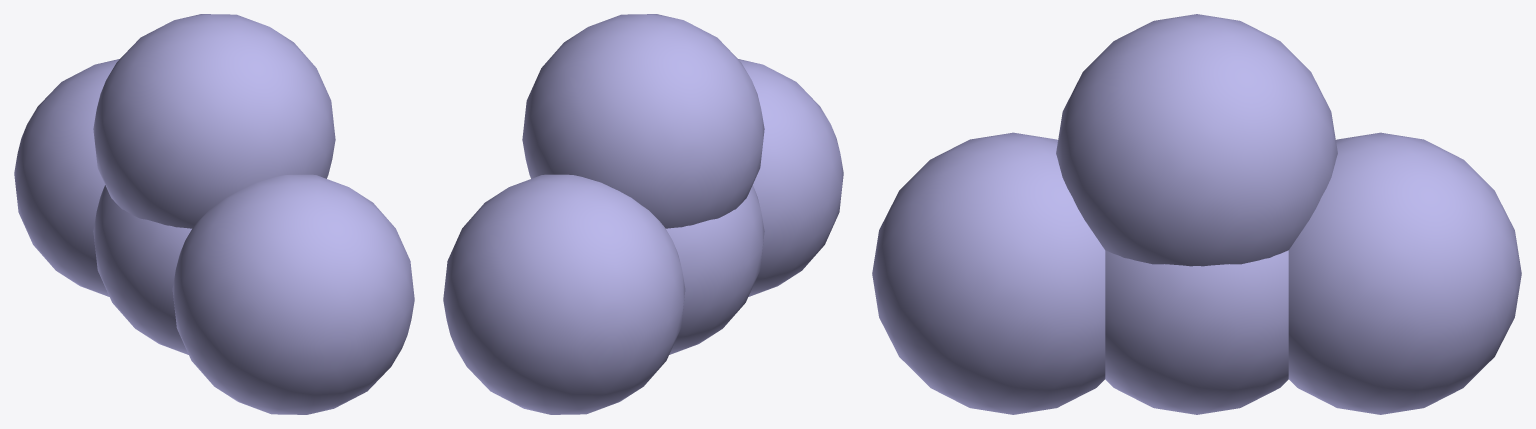
The model's file is Cloud.glb.
3 views of the same model, side by side, from view 1: azimuth 30°, elevation 25°; view 2: azimuth 150°, elevation 25°; view 3: azimuth 270°, elevation 25° (orthographic). The views are drawn at different scales.
Visible parts, largest first — view 1: Icosphere; view 2: Icosphere; view 3: Icosphere.
Boxes of the visible parts, x1,y1,x2,y2 form: Icosphere: (14, 14, 414, 414); Icosphere: (443, 14, 843, 414); Icosphere: (872, 14, 1521, 414).
Size of the model in its own units: 2 by 2.93 by 4.6.
